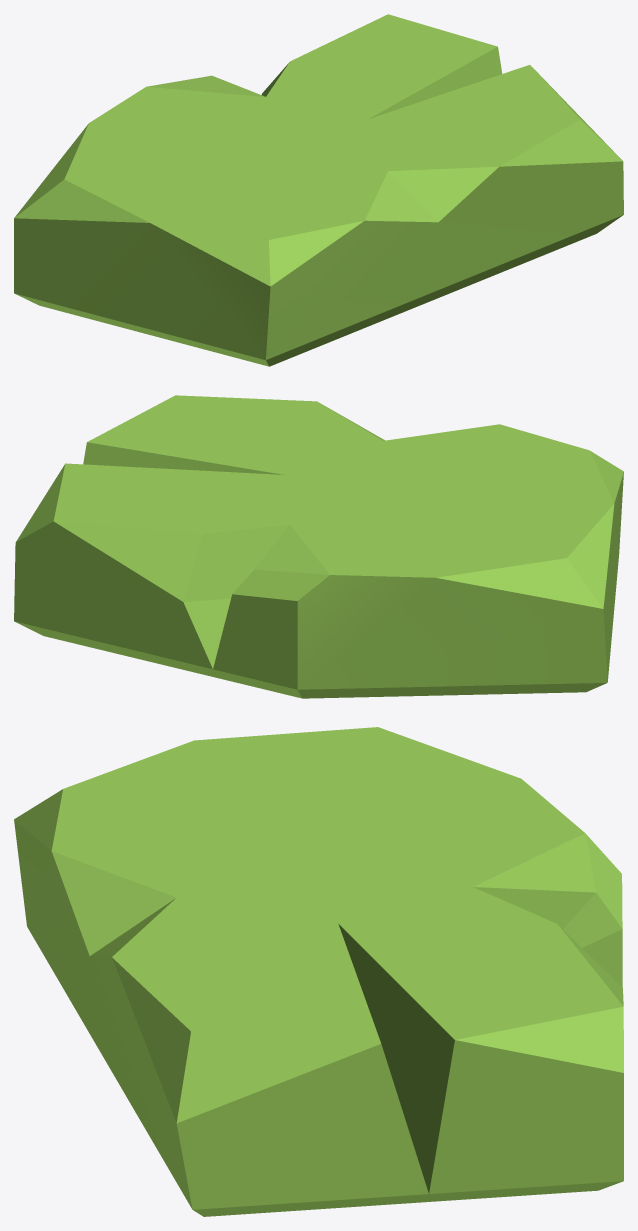
Rendered from mesh_ConcreteSlab4_v2.fbx.
3 views of the same model, one above another, from view 1: azimuth 30°, elevation 25°; view 2: azimuth 150°, elevation 25°; view 3: azimuth 270°, elevation 25° (orthographic). The views are drawn at different scales.
Parts seen in each view (by area): view 1: mesh_ConcreteSlab4_v2_0; view 2: mesh_ConcreteSlab4_v2_0; view 3: mesh_ConcreteSlab4_v2_0.
Part boxes in pixels (x1,y1,x2,y2): mesh_ConcreteSlab4_v2_0: (14, 14, 623, 366); mesh_ConcreteSlab4_v2_0: (14, 395, 623, 698); mesh_ConcreteSlab4_v2_0: (14, 727, 623, 1216).
Size of the model in its own units: 87.77 by 19.19 by 61.99.
